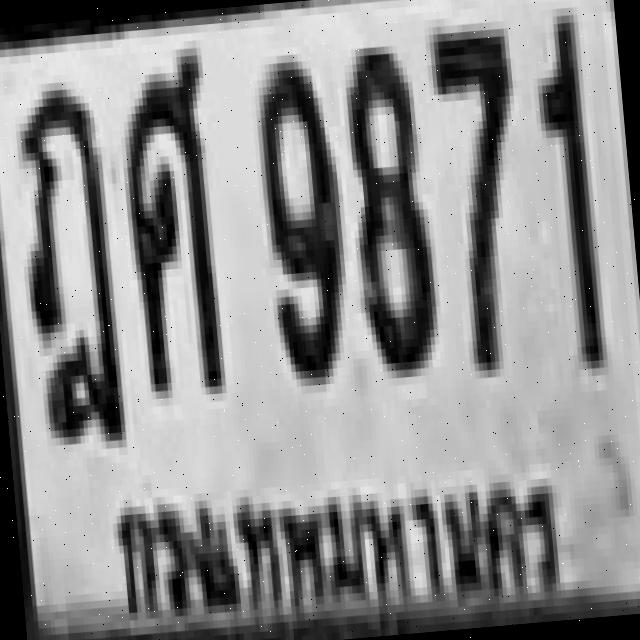1: (526, 11, 602, 360)
23DorChaDa: (7, 79, 121, 439)
47SorSala: (112, 44, 225, 396)
7: (424, 20, 532, 365)
8: (338, 36, 437, 372)
9: (250, 52, 348, 380)
Bangkok: (98, 447, 576, 640)
